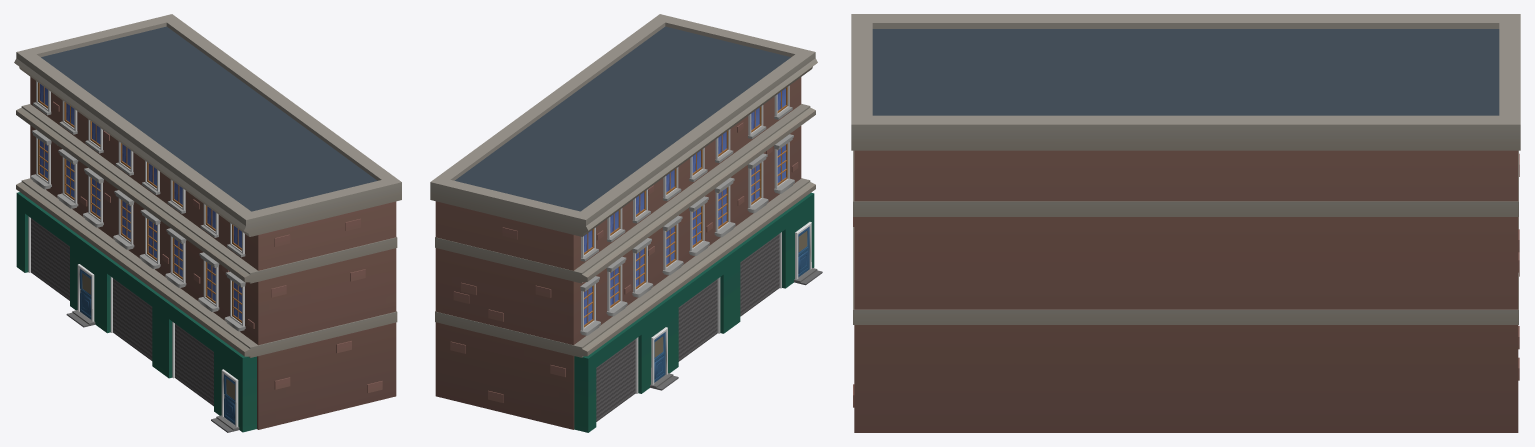
The model's file is Building_20_2_D.fbx.
The picture shows the model from 3 angles, left to right: view 1: azimuth 30°, elevation 25°; view 2: azimuth 150°, elevation 25°; view 3: azimuth 270°, elevation 25°; orthographic projection. The views are drawn at different scales.
Visible parts, largest first — view 1: Building_20_2_D; view 2: Building_20_2_D; view 3: Building_20_2_D.
Part boxes in pixels (x1,y1,x2,y2): Building_20_2_D: [14, 14, 401, 432]; Building_20_2_D: [430, 14, 822, 432]; Building_20_2_D: [851, 14, 1520, 432].
Size of the model in its own units: 774 by 938 by 1827.
